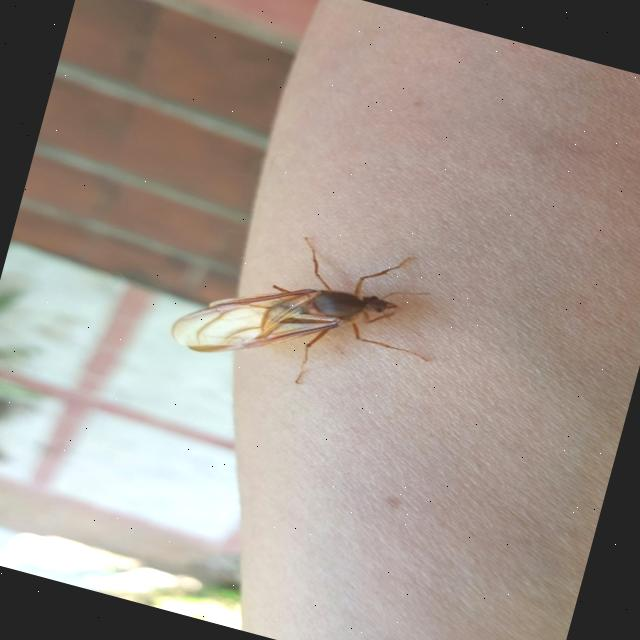Alive-Male-Alate: (165, 202, 454, 416)
